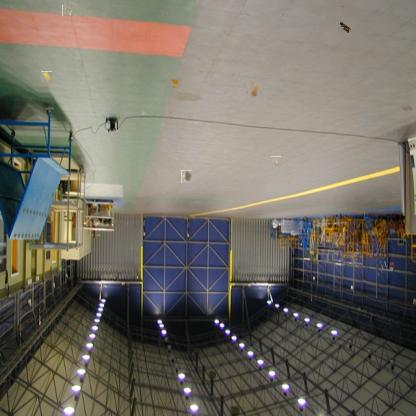dirty: (338, 18, 352, 34), (181, 170, 192, 183), (62, 4, 73, 16), (40, 71, 52, 82), (271, 157, 282, 167)
liquid: (247, 83, 262, 97), (171, 77, 181, 87)
